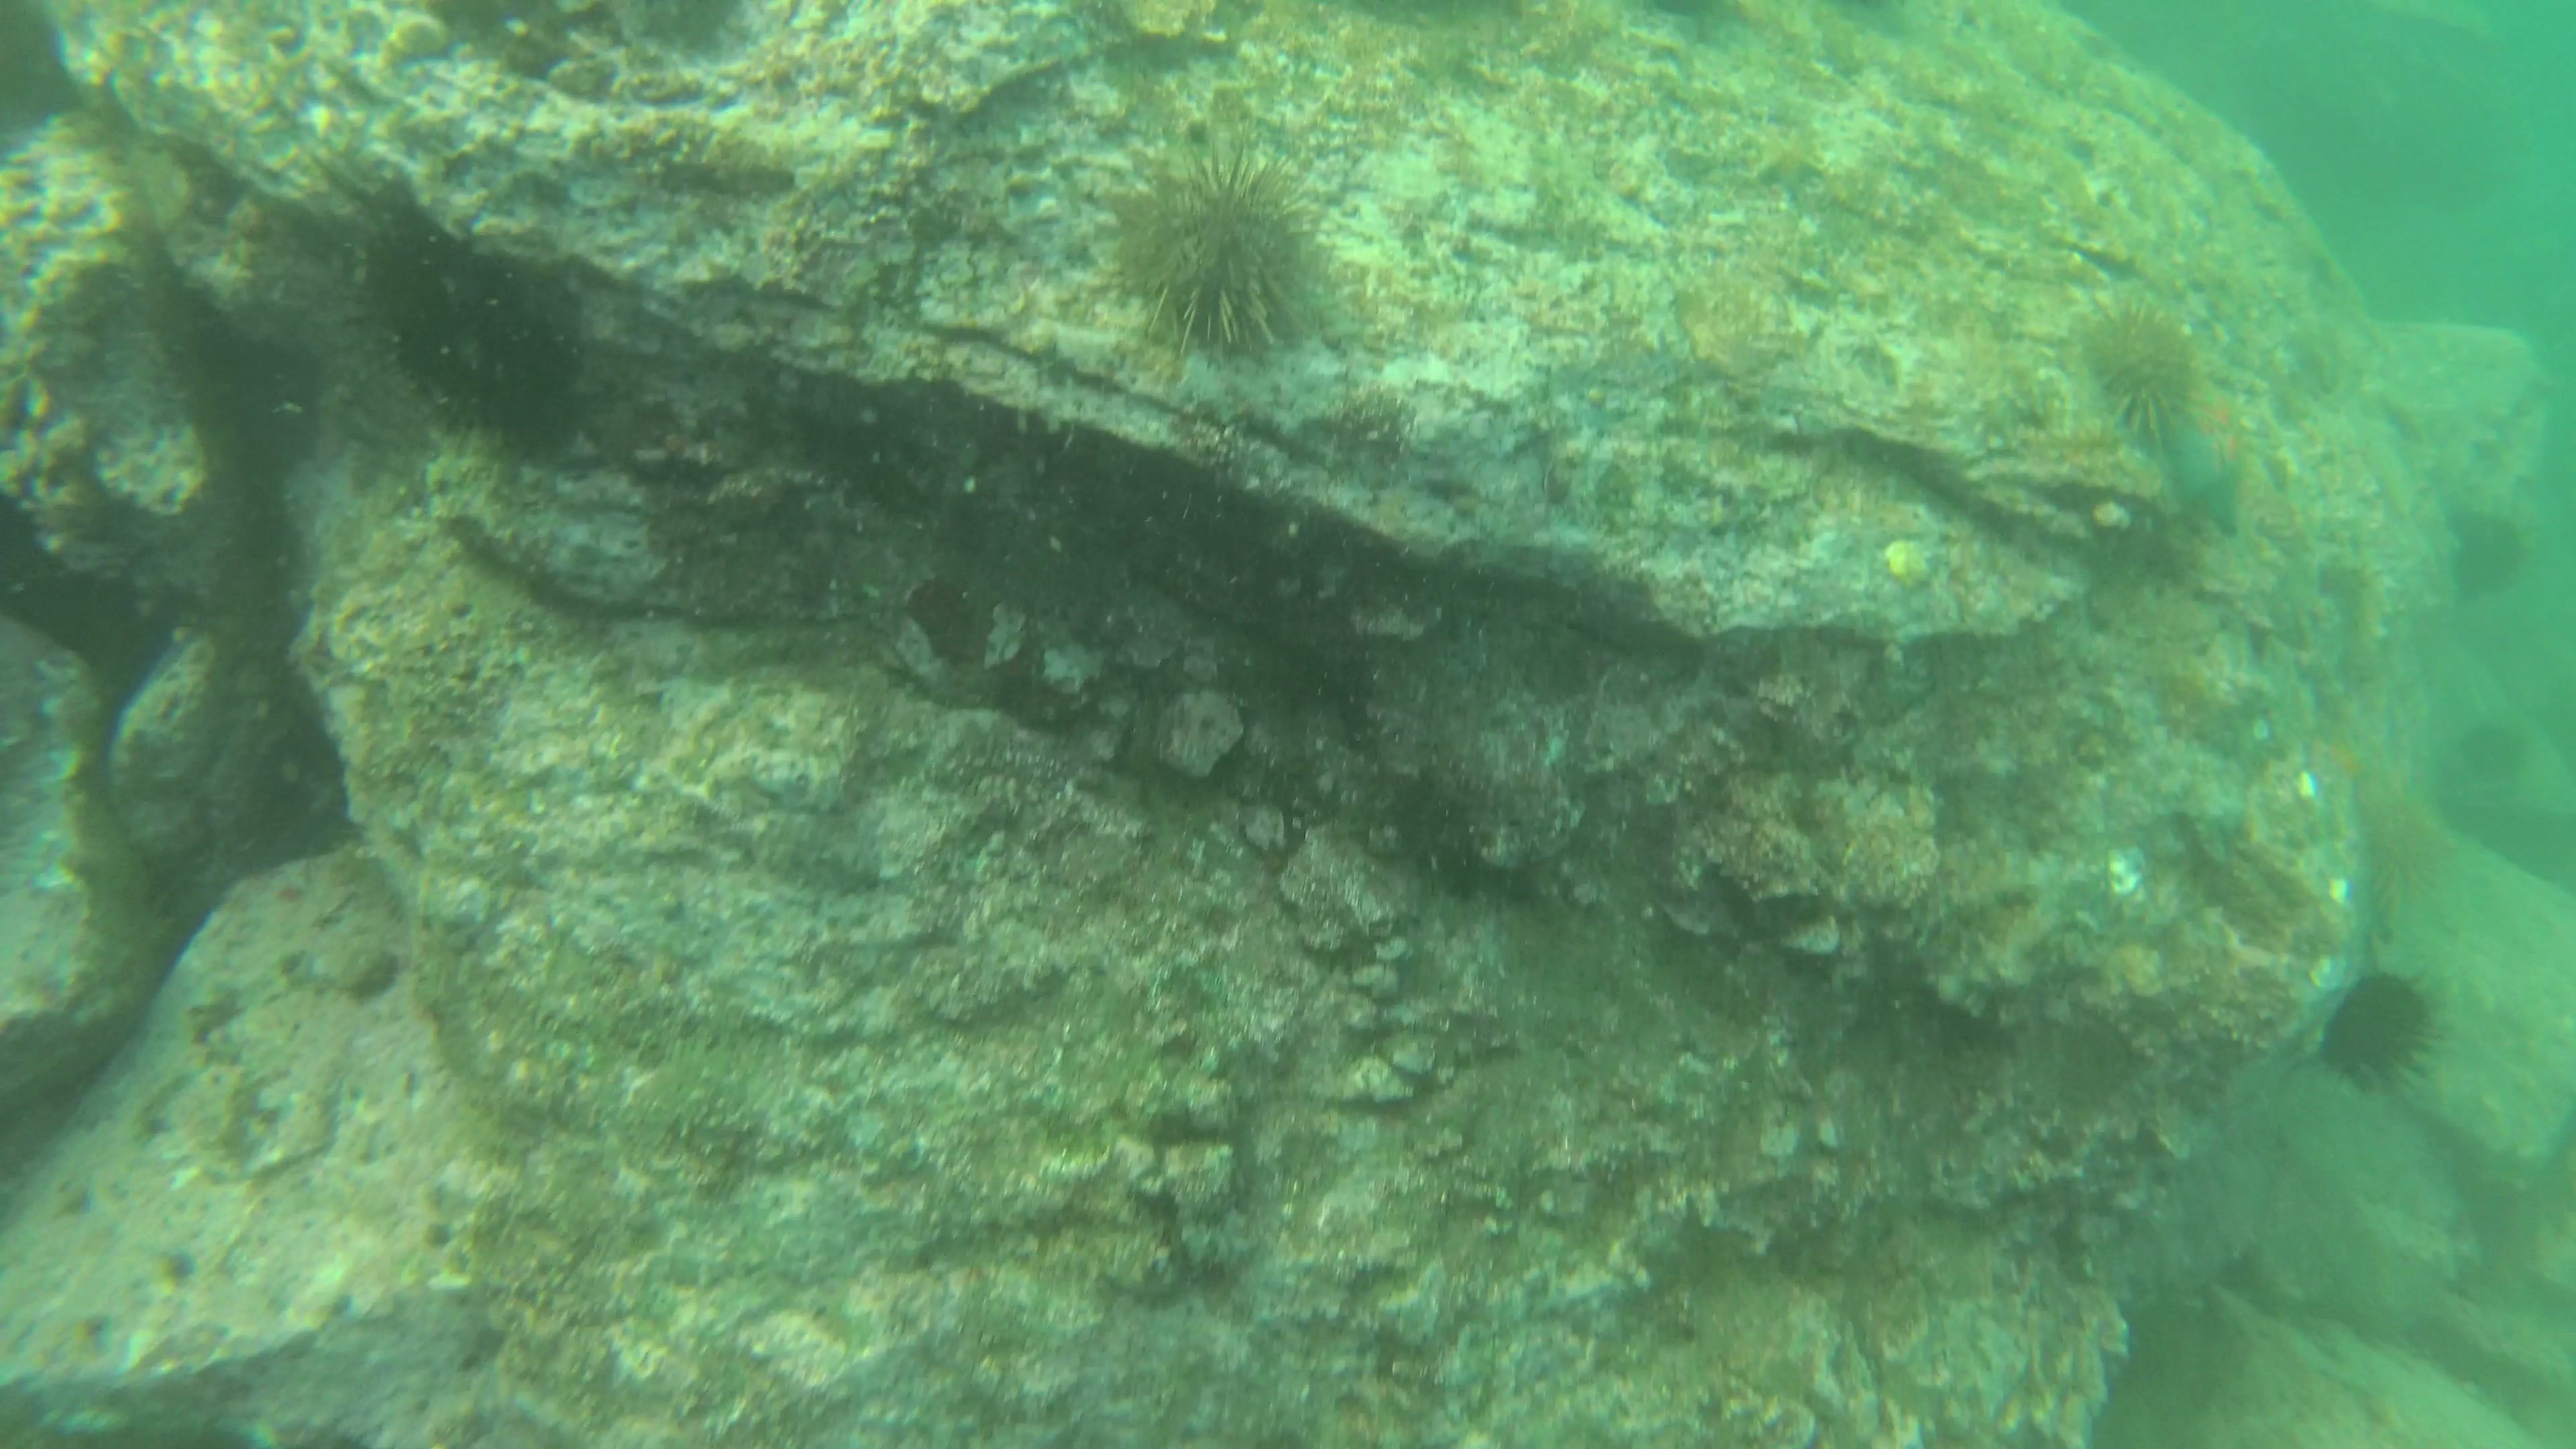echinus: (357, 219, 598, 451), (1097, 143, 1334, 368), (2063, 287, 2212, 448), (2311, 959, 2449, 1097), (2350, 773, 2463, 913), (2436, 499, 2535, 605)
starfish: (2139, 372, 2275, 538)
